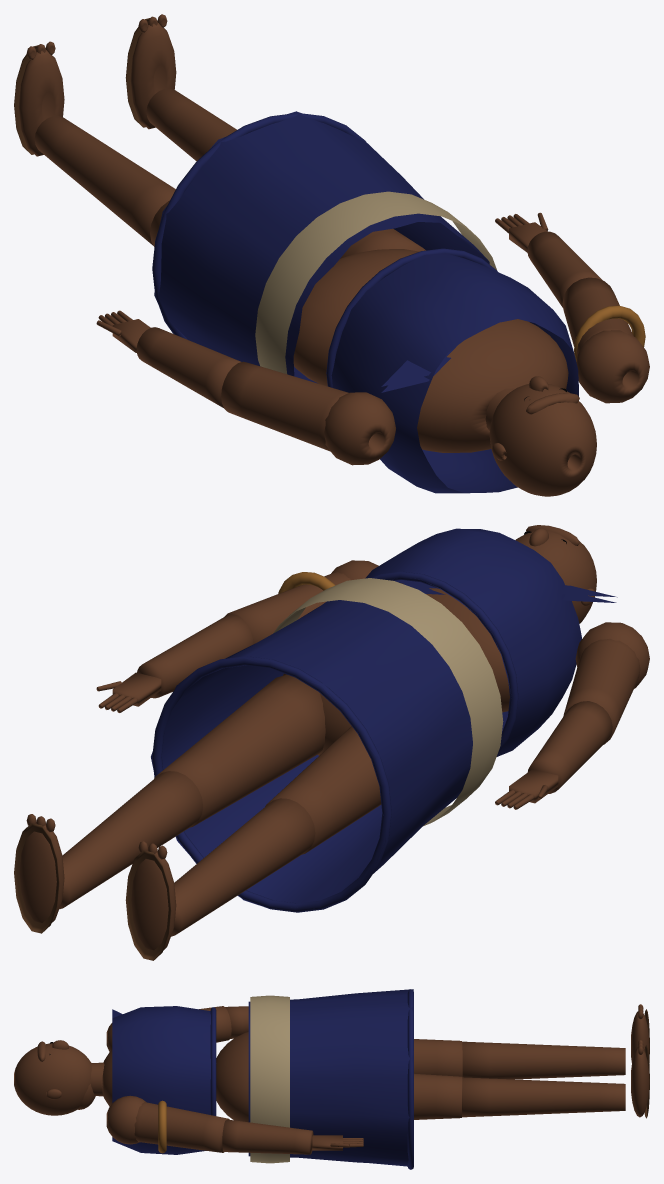
Rendered from GUARD_CLASS_V2.obj.
3 views of the same model, one above another, from view 1: azimuth 30°, elevation 25°; view 2: azimuth 150°, elevation 25°; view 3: azimuth 270°, elevation 25° (orthographic). The views are drawn at different scales.
Visible parts, largest first — view 1: skirt_wrap_indigo, wrap_oneshoulder_indigo, torso_upper, shin_sandal.L, upperarm.L, waist_sash_plain, head_generic, upperarm.R, shin_sandal.R, pelvis_lower, forearm_hand.L, forearm_hand.R (+2 smaller); view 2: skirt_wrap_indigo, wrap_oneshoulder_indigo, shin_sandal.L, thigh.R, shin_sandal.R, waist_sash_plain, thigh.L, upperarm.L, forearm_hand.R, forearm_hand.L, upperarm.R, head_generic (+5 smaller); view 3: skirt_wrap_indigo, wrap_oneshoulder_indigo, shin_sandal.R, shin_sandal.L, waist_sash_plain, head_generic, upperarm.R, forearm_hand.R, pelvis_lower, thigh.R, thigh.L, upperarm.L (+3 smaller).
Boxes of the visible parts, left/top/right/bottom form: skirt_wrap_indigo: left=152, top=111, right=489, bottom=383; wrap_oneshoulder_indigo: left=326, top=248, right=578, bottom=493; torso_upper: left=417, top=319, right=568, bottom=452; shin_sandal.L: left=18, top=41, right=175, bottom=245; upperarm.L: left=221, top=361, right=395, bottom=465; waist_sash_plain: left=255, top=191, right=496, bottom=374; head_generic: left=485, top=384, right=596, bottom=496; upperarm.R: left=562, top=277, right=649, bottom=403; shin_sandal.R: left=130, top=14, right=236, bottom=160; pelvis_lower: left=293, top=249, right=418, bottom=386; forearm_hand.L: left=96, top=310, right=240, bottom=407; forearm_hand.R: left=495, top=212, right=602, bottom=307; skirt_wrap_indigo: left=151, top=600, right=472, bottom=912; wrap_oneshoulder_indigo: left=365, top=528, right=617, bottom=756; shin_sandal.L: left=131, top=798, right=315, bottom=950; thigh.R: left=154, top=675, right=325, bottom=827; shin_sandal.R: left=19, top=771, right=202, bottom=922; waist_sash_plain: left=273, top=578, right=503, bottom=826; thigh.L: left=265, top=726, right=381, bottom=854; upperarm.L: left=563, top=622, right=649, bottom=744; forearm_hand.R: left=96, top=614, right=253, bottom=712; forearm_hand.L: left=495, top=701, right=612, bottom=809; upperarm.R: left=224, top=560, right=378, bottom=643; head_generic: left=515, top=530, right=596, bottom=623; skirt_wrap_indigo: left=248, top=989, right=413, bottom=1169; wrap_oneshoulder_indigo: left=112, top=1006, right=216, bottom=1154; shin_sandal.R: left=462, top=1040, right=649, bottom=1117; shin_sandal.L: left=462, top=1004, right=649, bottom=1079; waist_sash_plain: left=250, top=995, right=289, bottom=1163; head_generic: left=14, top=1043, right=104, bottom=1115; upperarm.R: left=106, top=1095, right=229, bottom=1152; forearm_hand.R: left=222, top=1119, right=363, bottom=1154; pelvis_lower: left=216, top=1032, right=248, bottom=1122; thigh.R: left=414, top=1073, right=462, bottom=1119; thigh.L: left=414, top=1039, right=462, bottom=1076; upperarm.L: left=106, top=1006, right=231, bottom=1051.
Size of the model in its own units: 0.9412 by 0.5036 by 1.77.
